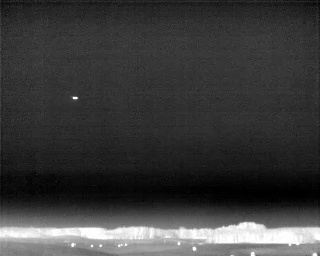AIRPLANE: (70, 94, 80, 102)
